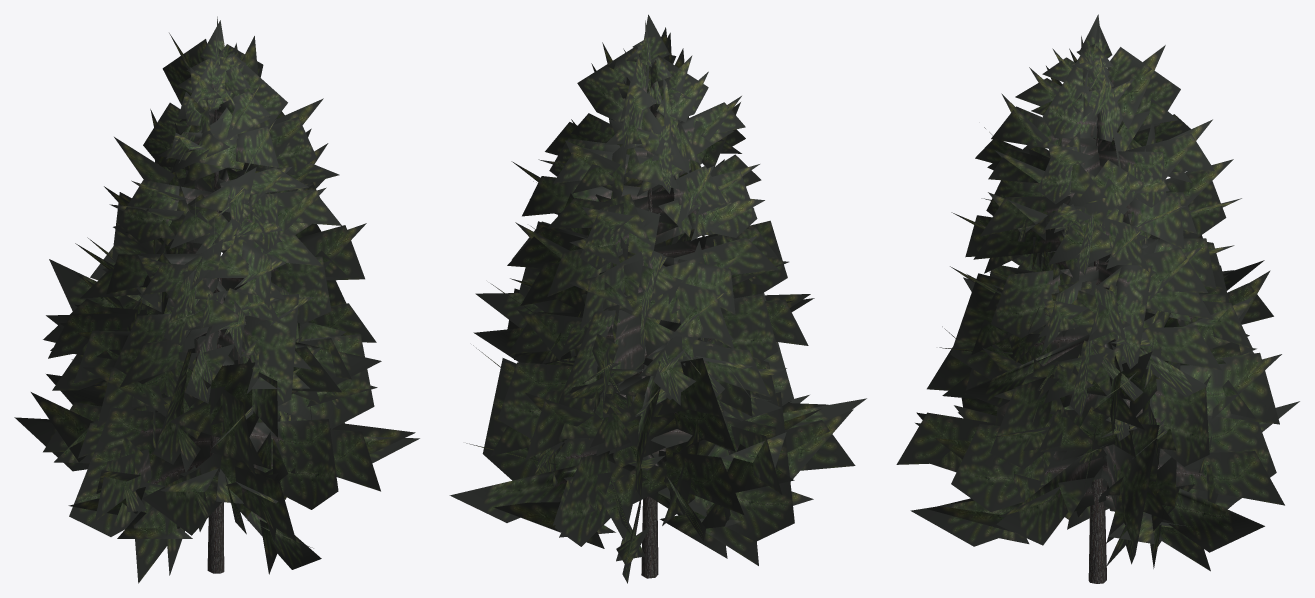
The model's file is AlpinePlant02.FBX.
The picture shows the model from 3 angles, left to right: view 1: azimuth 30°, elevation 25°; view 2: azimuth 150°, elevation 25°; view 3: azimuth 270°, elevation 25°; orthographic projection. The views are drawn at different scales.
Parts seen in each view (by area): view 1: AlpinePlant02; view 2: AlpinePlant02; view 3: AlpinePlant02.
Part boxes in pixels (bbox=[...]): AlpinePlant02: bbox=[14, 16, 419, 583]; AlpinePlant02: bbox=[449, 14, 866, 583]; AlpinePlant02: bbox=[896, 14, 1299, 583].
Bounding box in the file's own units: 681 × 1123 × 725.
Materials: 2 (2 with a texture image).
